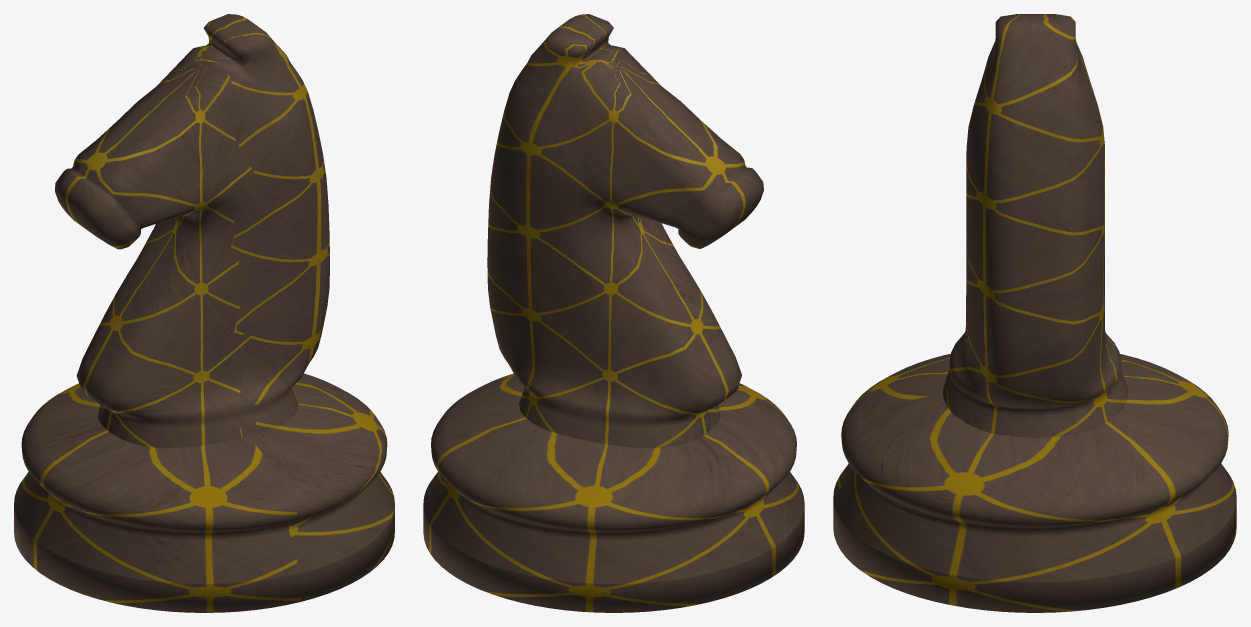
Rendered from ALL.gltf.
3 views of the same model, side by side, from view 1: azimuth 30°, elevation 25°; view 2: azimuth 150°, elevation 25°; view 3: azimuth 270°, elevation 25° (orthographic). The views are drawn at different scales.
Visible parts, largest first — view 1: KnightBlack1; view 2: KnightBlack1; view 3: KnightBlack1.
Part boxes in pixels (box(x1,y1,x2,y2)): KnightBlack1: box(14, 14, 394, 612); KnightBlack1: box(423, 14, 804, 612); KnightBlack1: box(833, 14, 1236, 612).
Bounding box in the file's own units: 0.0211 × 0.0305 × 0.0211.
1 material, 1 textured.
